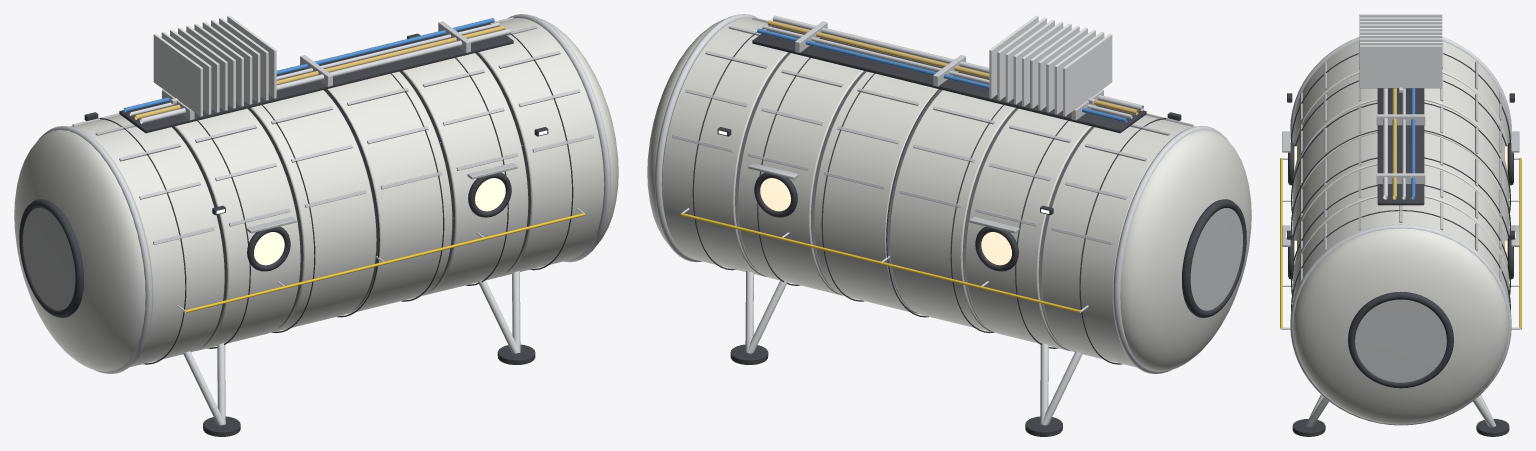
The model's file is hab_module.glb.
3 views of the same model, side by side, from view 1: azimuth 30°, elevation 25°; view 2: azimuth 150°, elevation 25°; view 3: azimuth 270°, elevation 25° (orthographic). The views are drawn at different scales.
Size of the model in its own units: 10.5 by 6.3 by 4.69.
